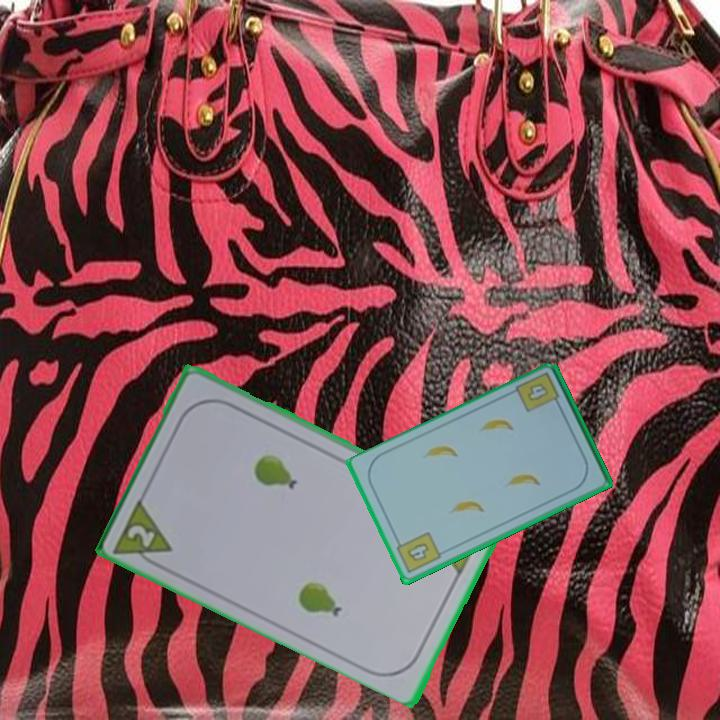2p: (110, 493, 176, 573)
4b: (392, 528, 444, 576), (512, 369, 564, 415)
